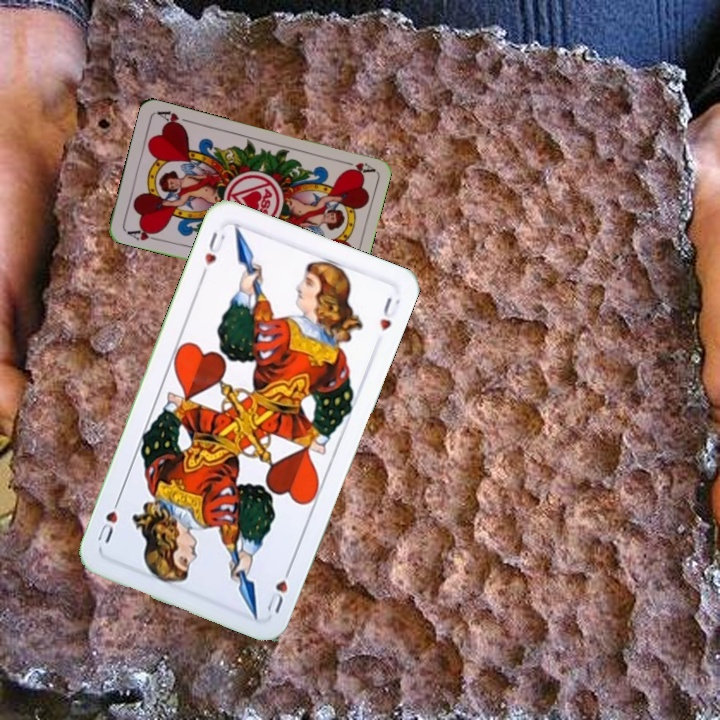HA: (336, 156, 376, 178), (123, 223, 163, 243)
HU: (263, 561, 295, 616), (197, 226, 228, 279)
